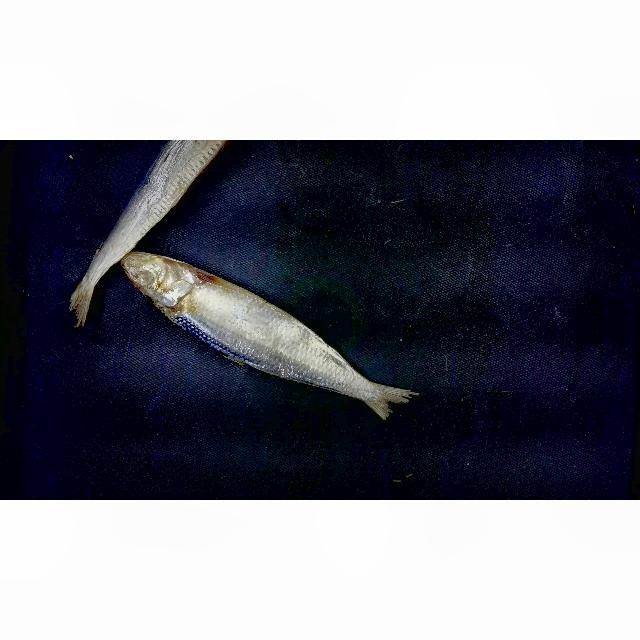Grade_A_Body: (208, 267, 336, 406), (117, 140, 261, 220)
Grade_A_Head: (115, 246, 205, 322)
Grade_A_Tail: (341, 337, 439, 468), (34, 216, 145, 324)
